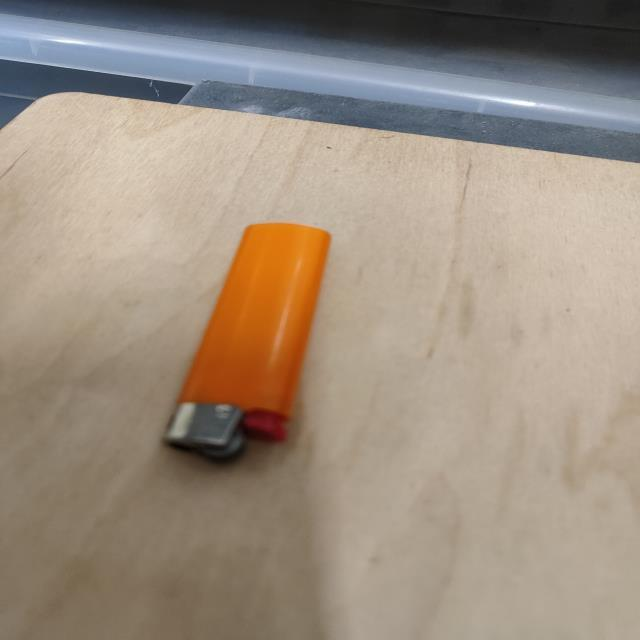lighter: (164, 223, 330, 460)
